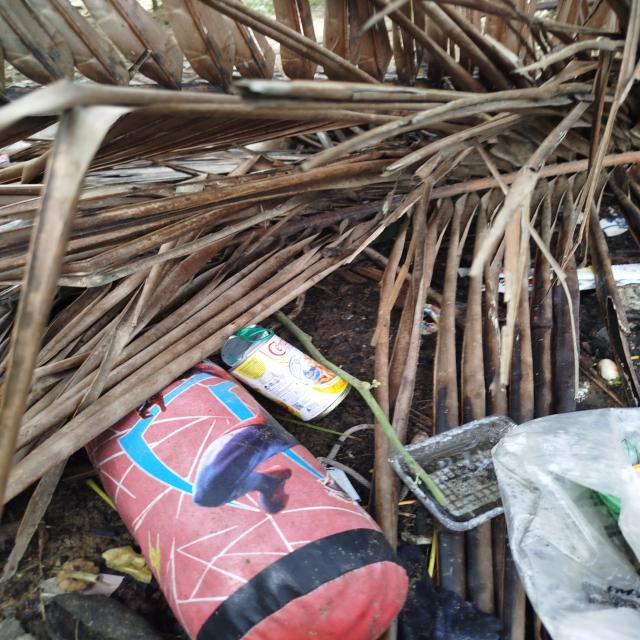metal: (211, 318, 363, 424)
residual: (482, 400, 640, 640)
